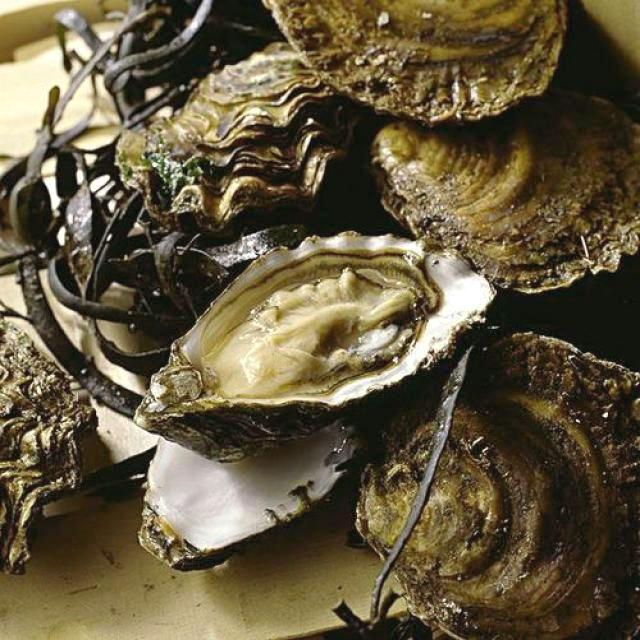Oyster-Closed: (335, 309, 640, 640), (365, 0, 640, 299), (88, 28, 379, 249), (240, 0, 605, 125), (0, 284, 115, 603)
Oyster-Open: (127, 222, 529, 477), (127, 408, 399, 593)
